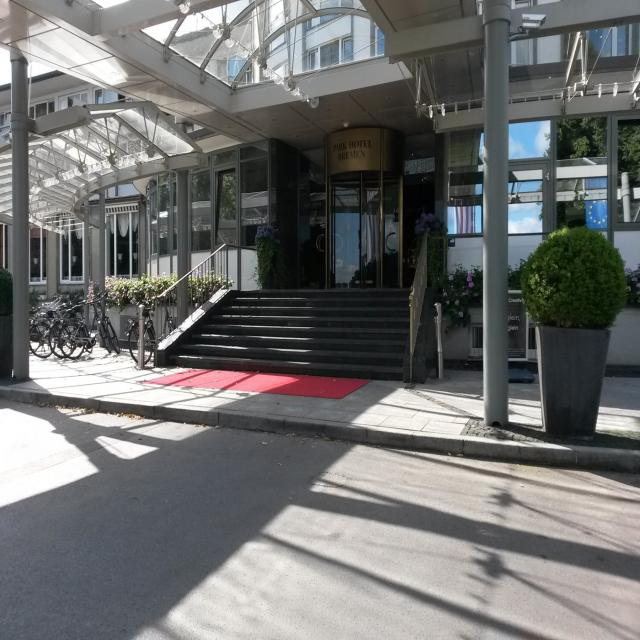AVOID: (154, 288, 410, 379)
